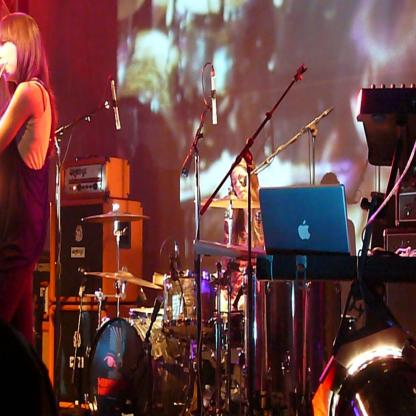board: (258, 185, 353, 256)
